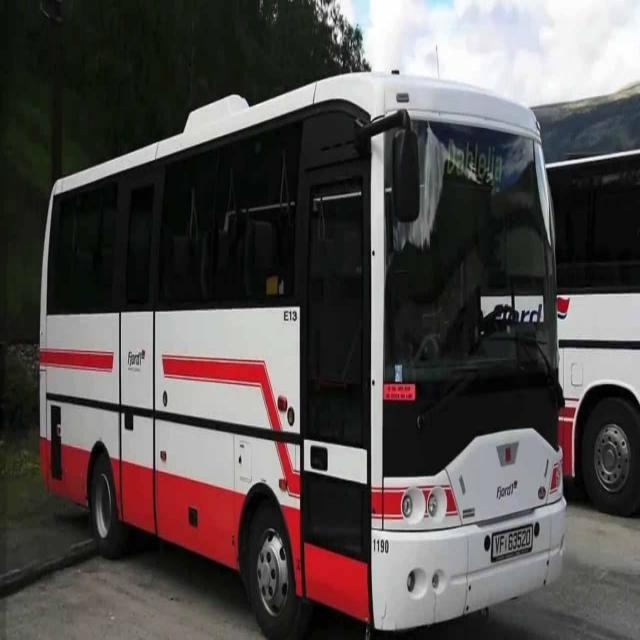bus: (20, 49, 592, 634)
